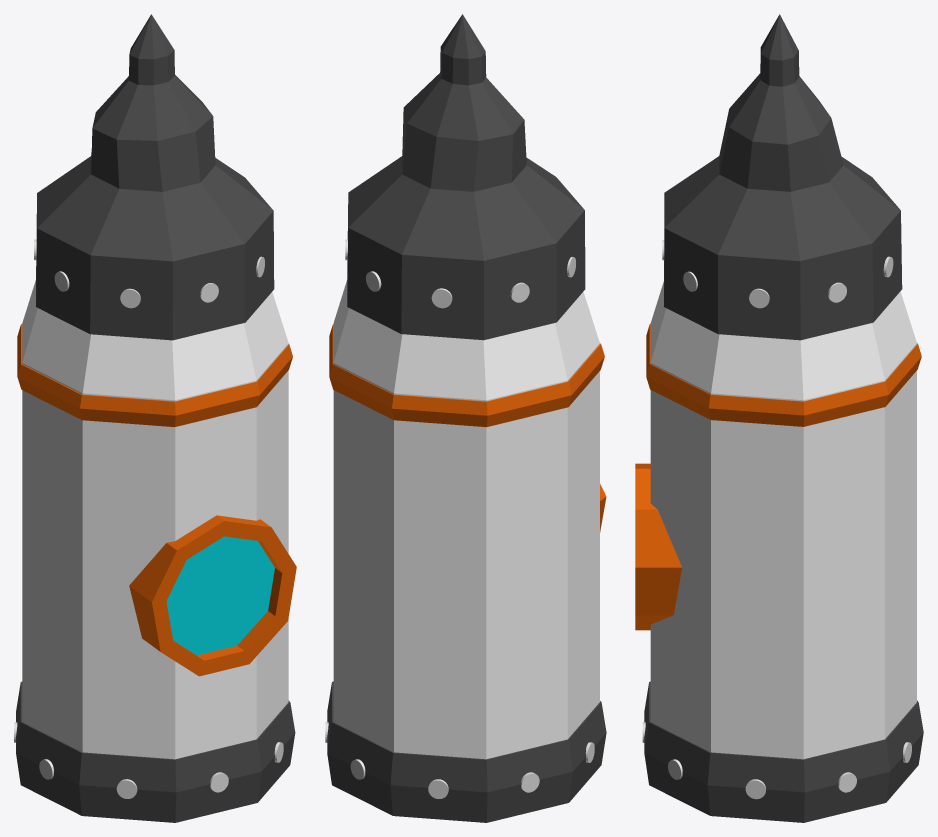
Rendered from Rocket Head 3.fbx.
3 renders of one model, left to right at view 1: azimuth 30°, elevation 25°; view 2: azimuth 150°, elevation 25°; view 3: azimuth 270°, elevation 25°, orthographic.
Visible parts, largest first — view 1: Окружность.001; view 2: Окружность.001; view 3: Окружность.001.
Boxes of the visible parts, box(x1,y1,x2,y2) form: Окружность.001: box(14, 14, 296, 822); Окружность.001: box(325, 14, 606, 822); Окружность.001: box(635, 14, 923, 822).
Size of the model in its own units: 207 by 603 by 210.
